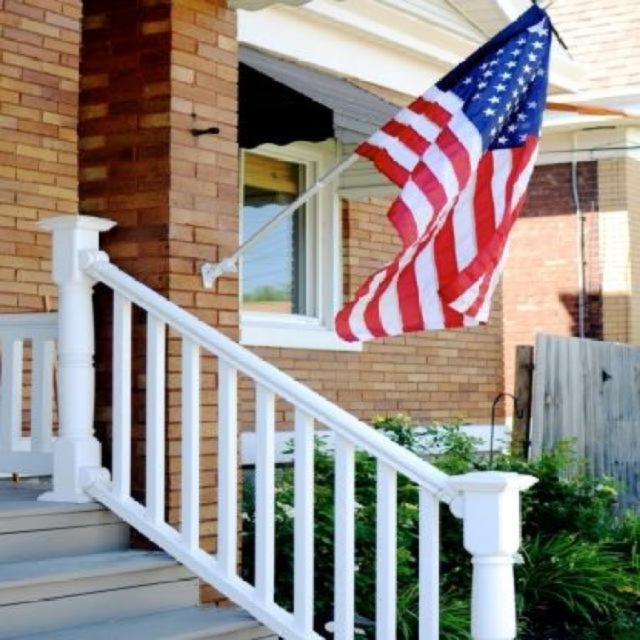stair: (0, 480, 279, 640)
